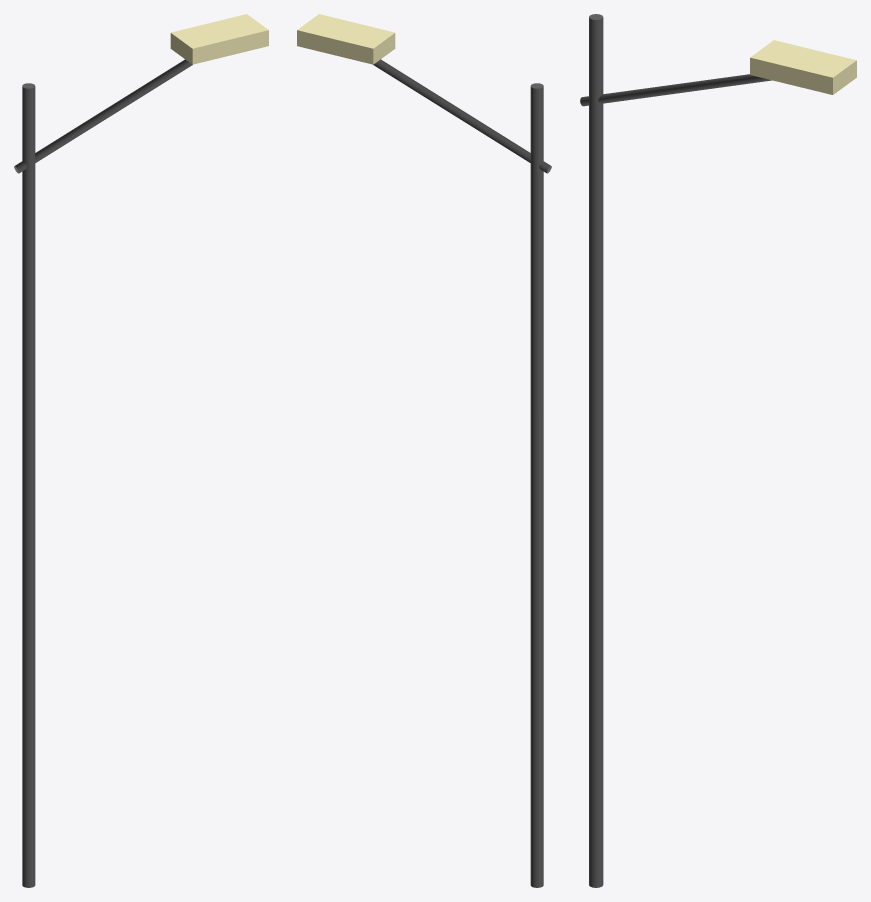
The model's file is env-mod-streetlight.glb.
3 renders of one model, left to right at view 1: azimuth 30°, elevation 25°; view 2: azimuth 150°, elevation 25°; view 3: azimuth 330°, elevation 25°, orthographic. The views are drawn at different scales.
Size of the model in its own units: 1.27 by 4.04 by 0.2.
